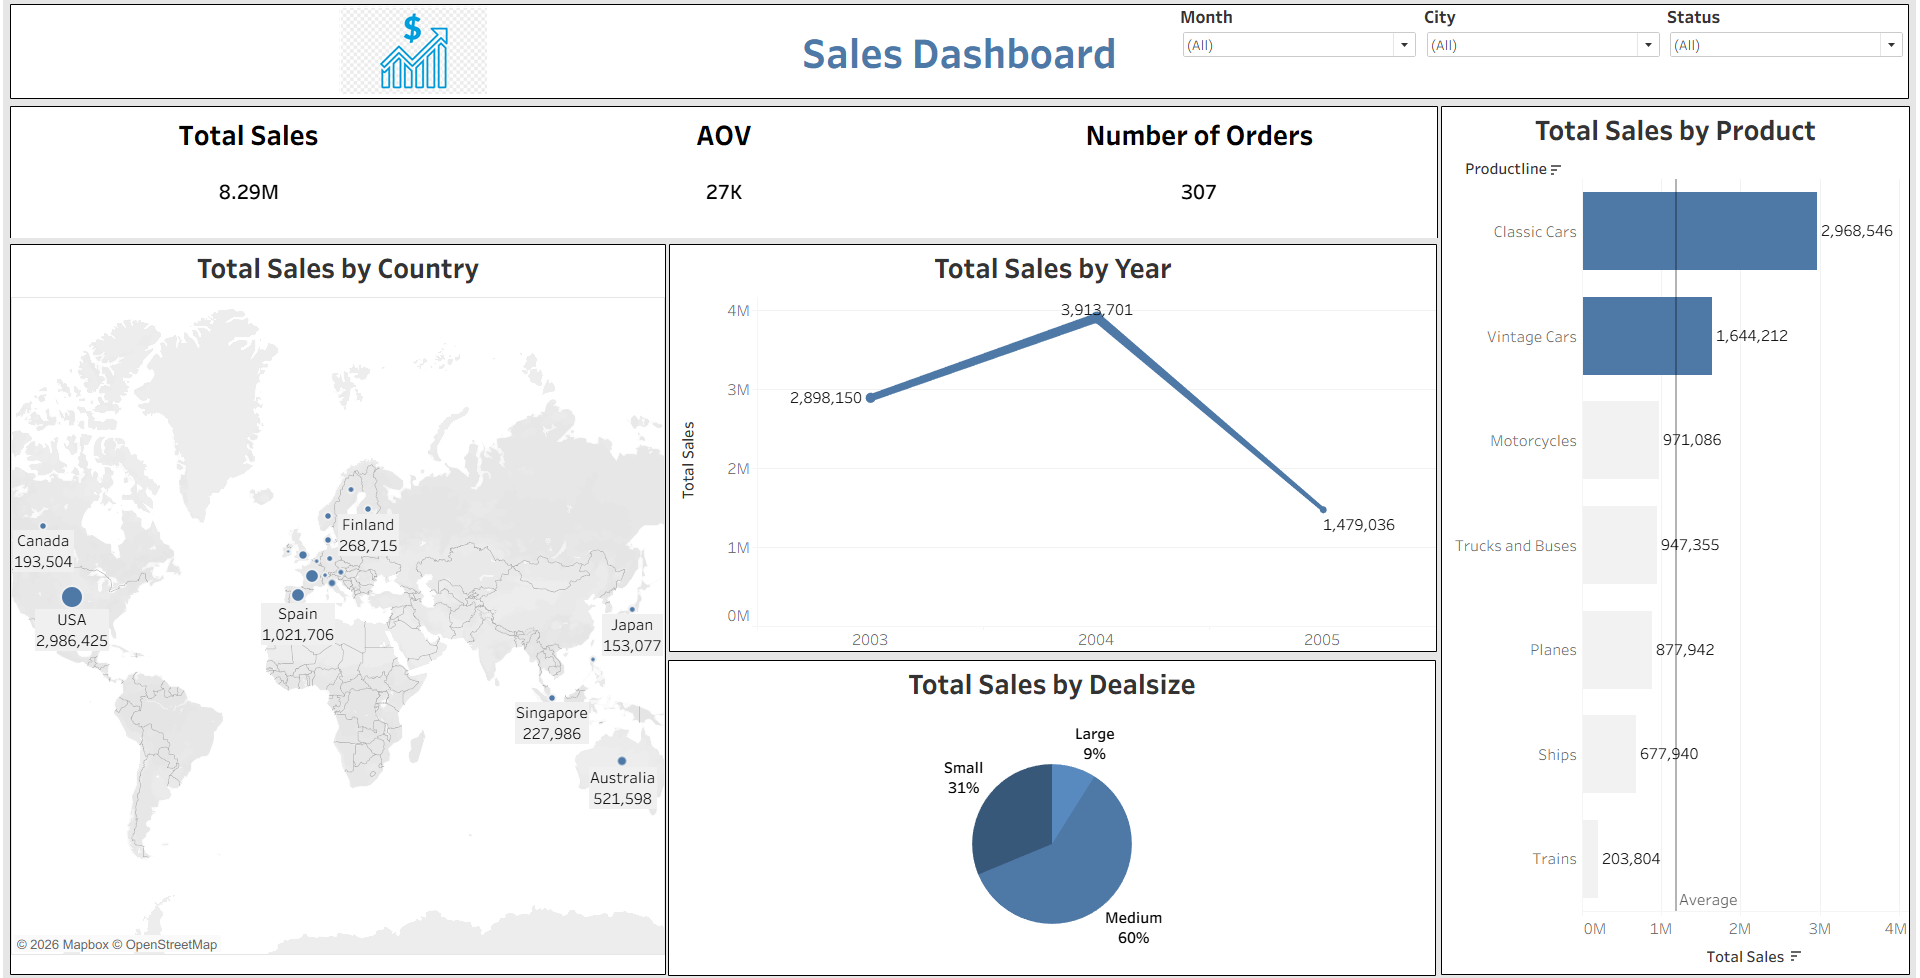

What the dashboard file says about the page in this screenshot:
{"tool":"tableau","page":{"name":"Dashboard 1","canvas":[1000,1000],"units":"permille","ordinal":0},"visuals":[{"type":"image","box":[4.8,10,990.3,980]},{"type":"text","box":[5.4,10,989.1,96.1]},{"type":"filter","title":"Total Sales by year","param":"[federated.06uql4k1h31zen1dlpbww1rndru0].[mn:ORDERDATE:ok]","box":[614.4,11.2,124.3,91.1]},{"type":"filter","title":"Total Sales by Country","param":"[federated.06uql4k1h31zen1dlpbww1rndru0].[none:CITY:nk]","box":[741.7,11.2,124.3,91.1]},{"type":"filter","title":"Total Sales by Country","param":"[federated.06uql4k1h31zen1dlpbww1rndru0].[none:STATUS:nk]","box":[868.4,11.2,124.3,91.1]},{"type":"image","param":"Image/147-1477148_benefits-for-sales-sales-logo-png-blue.png","box":[134.6,12.5,161.7,89.9]},{"type":"worksheet","title":"Cards","mark":"Automatic","box":[5.3,112.4,743.6,133.6]},{"type":"worksheet","title":"Total Sales by Product","mark":"Automatic","rows":["PRODUCTLINE"],"cols":["Calculation_0231480272875520"],"box":[750.7,112.4,244.5,875.2]},{"type":"worksheet","title":"Total Sales by Country","mark":"Automatic","box":[5.3,252.2,341.8,736.6]},{"type":"worksheet","title":"Total Sales by year","mark":"Automatic","rows":["Calculation_0231480272875520"],"cols":["ORDERDATE"],"box":[348.4,252.2,400,410.7]},{"type":"worksheet","title":"Total Sales by Dealsize","mark":"Pie","box":[347.8,670.4,400,318.4]}]}

Visuals, with their boxes on the dashboard's canvas, which has no fixed pixel size, in thousandths of its width and height (x1, y1, x2, y2). These are canvas units, not pixel positions in the 1920x978 screenshot, which may show the page scaled, cropped or inside an application window:
image: bbox=[5, 10, 995, 990]
text: bbox=[5, 10, 994, 106]
"Total Sales by year" filter: bbox=[614, 11, 739, 102]
"Total Sales by Country" filter: bbox=[742, 11, 866, 102]
"Total Sales by Country" filter: bbox=[868, 11, 993, 102]
image: bbox=[135, 12, 296, 102]
"Cards" worksheet: bbox=[5, 112, 749, 246]
"Total Sales by Product" worksheet: bbox=[751, 112, 995, 988]
"Total Sales by Country" worksheet: bbox=[5, 252, 347, 989]
"Total Sales by year" worksheet: bbox=[348, 252, 748, 663]
"Total Sales by Dealsize" worksheet (Pie marks): bbox=[348, 670, 748, 989]
